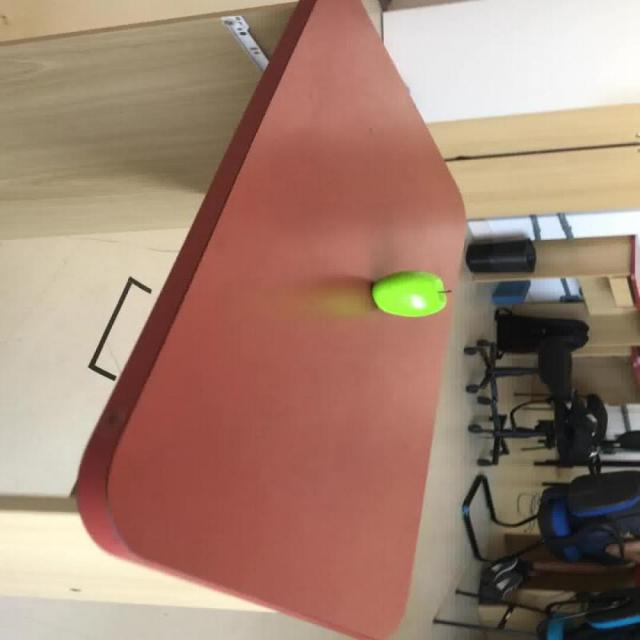Apple: (369, 270, 448, 317)
